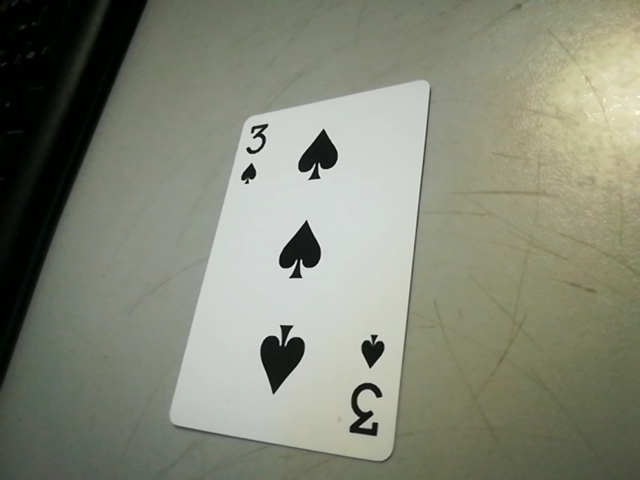ht 3: (342, 326, 395, 450), (233, 120, 277, 184)
